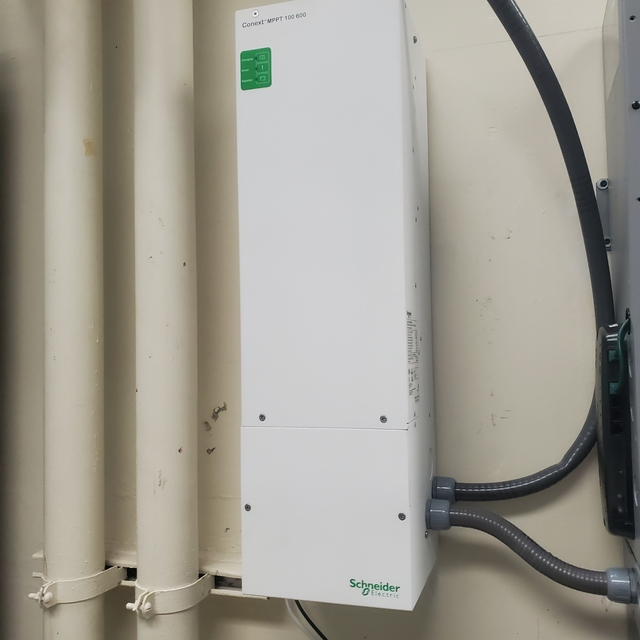charge_controller: (233, 2, 454, 618)
